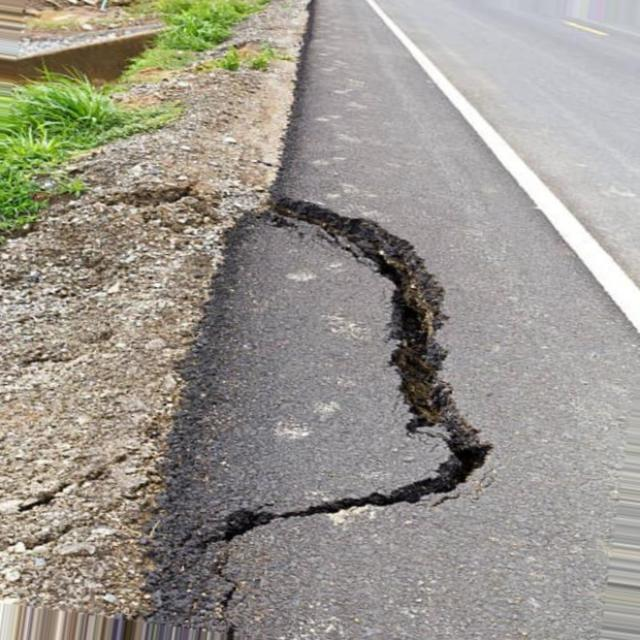Pinggir: (105, 155, 516, 557)
